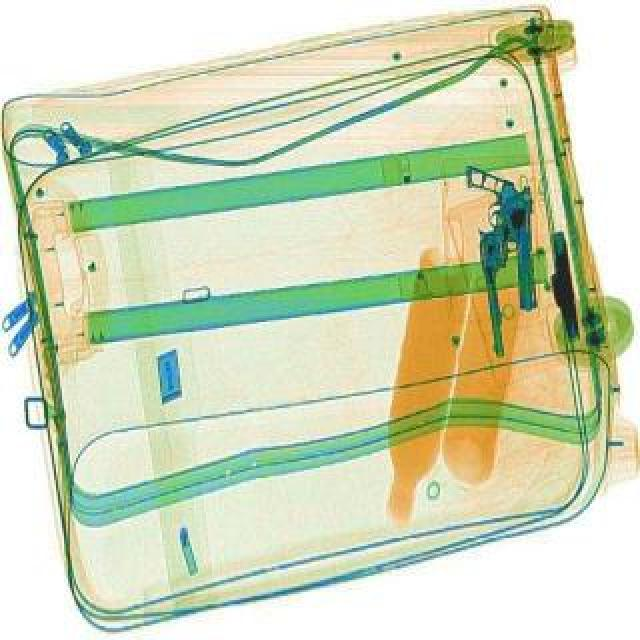gun: (462, 158, 558, 322), (472, 224, 522, 366), (538, 228, 594, 344)
